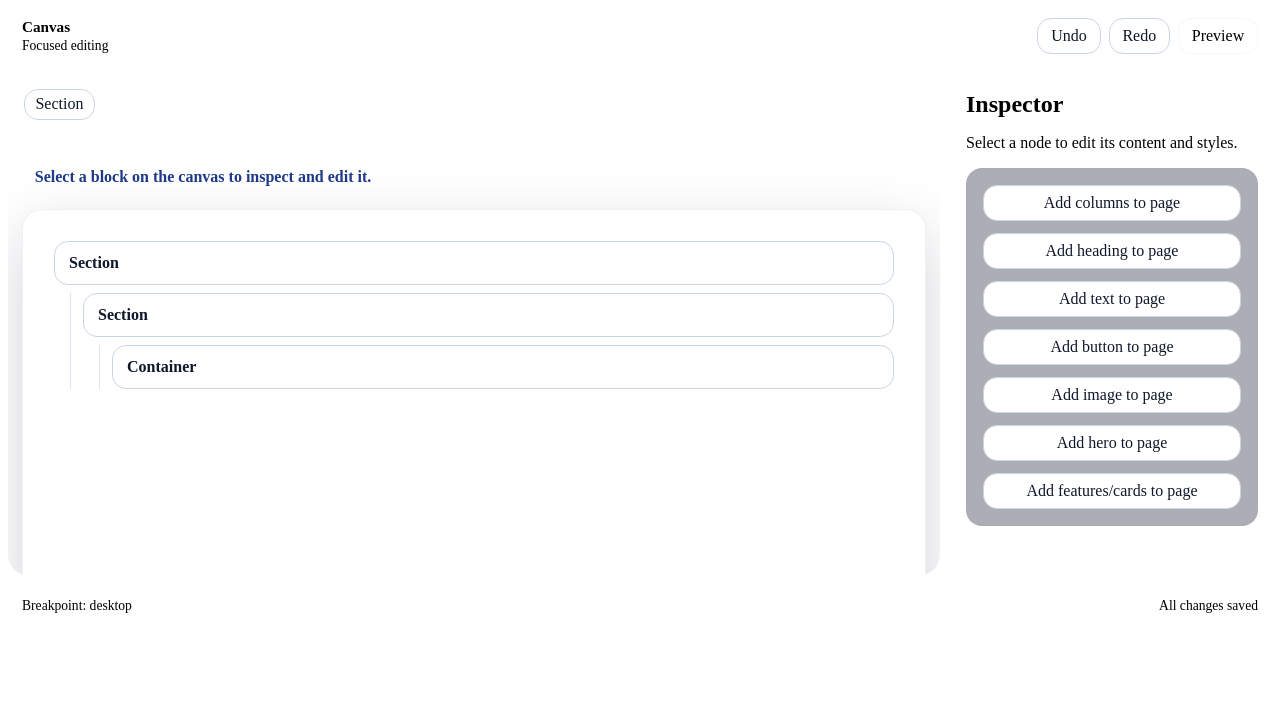
editor shell flow › adds a new block inside a selected container and lets the nested block be edited
Click the button "Container" at (162, 366), box [112, 345, 894, 389]
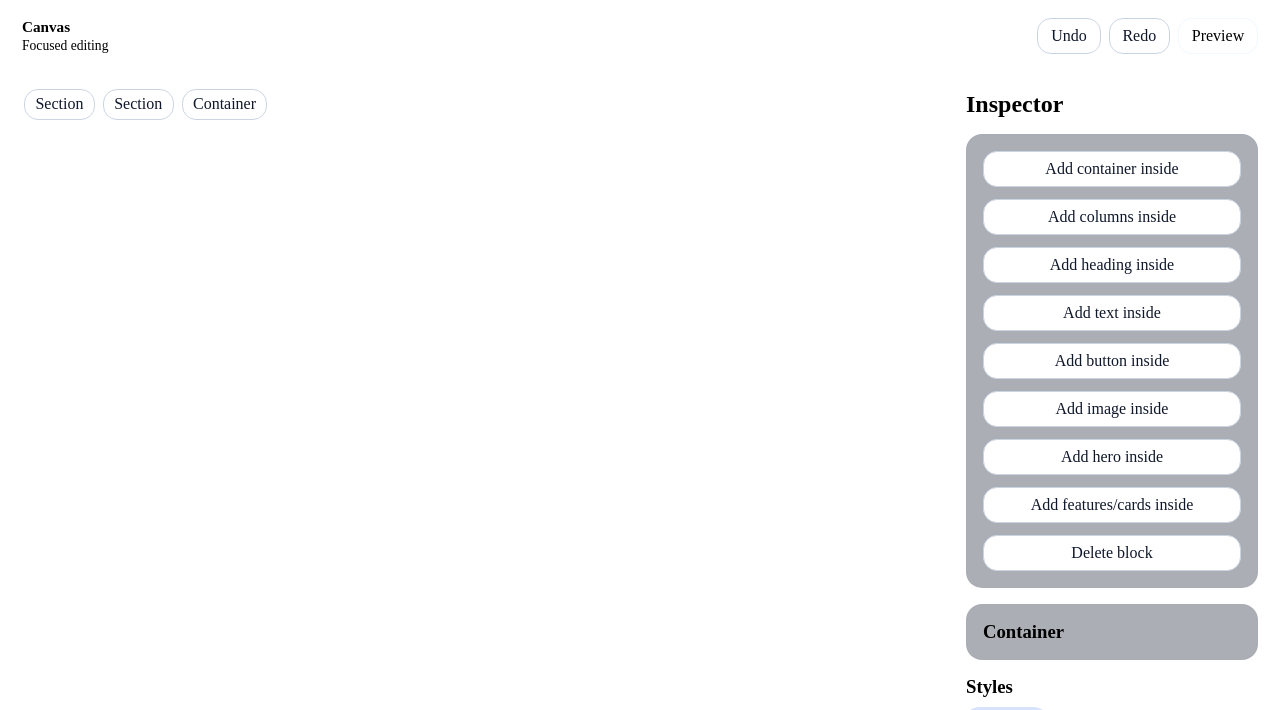
Click the button "Add text inside" at (1112, 313), box [983, 295, 1241, 331]
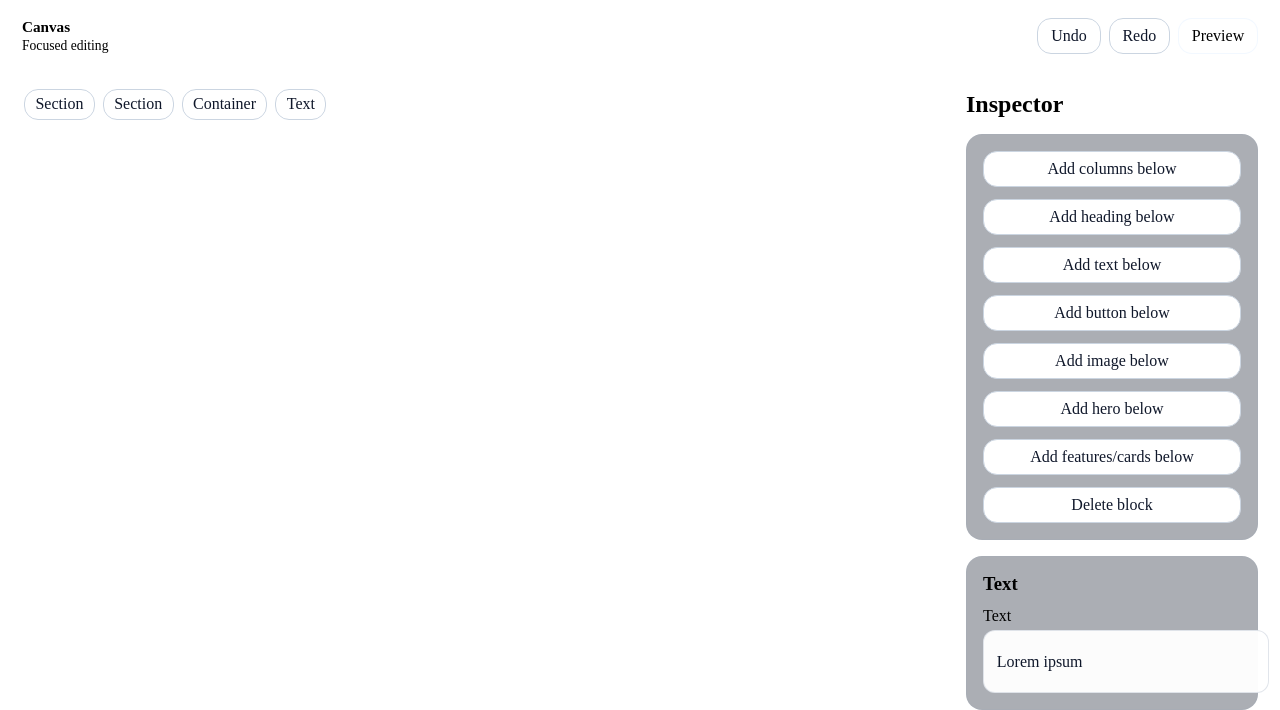
Now the field labelled "Text" holds "Lorem ipsum"
Replace the text in the field labelled "Text" with "Container paragraph" at (1126, 662), box [983, 630, 1269, 693]
(page scrolled)
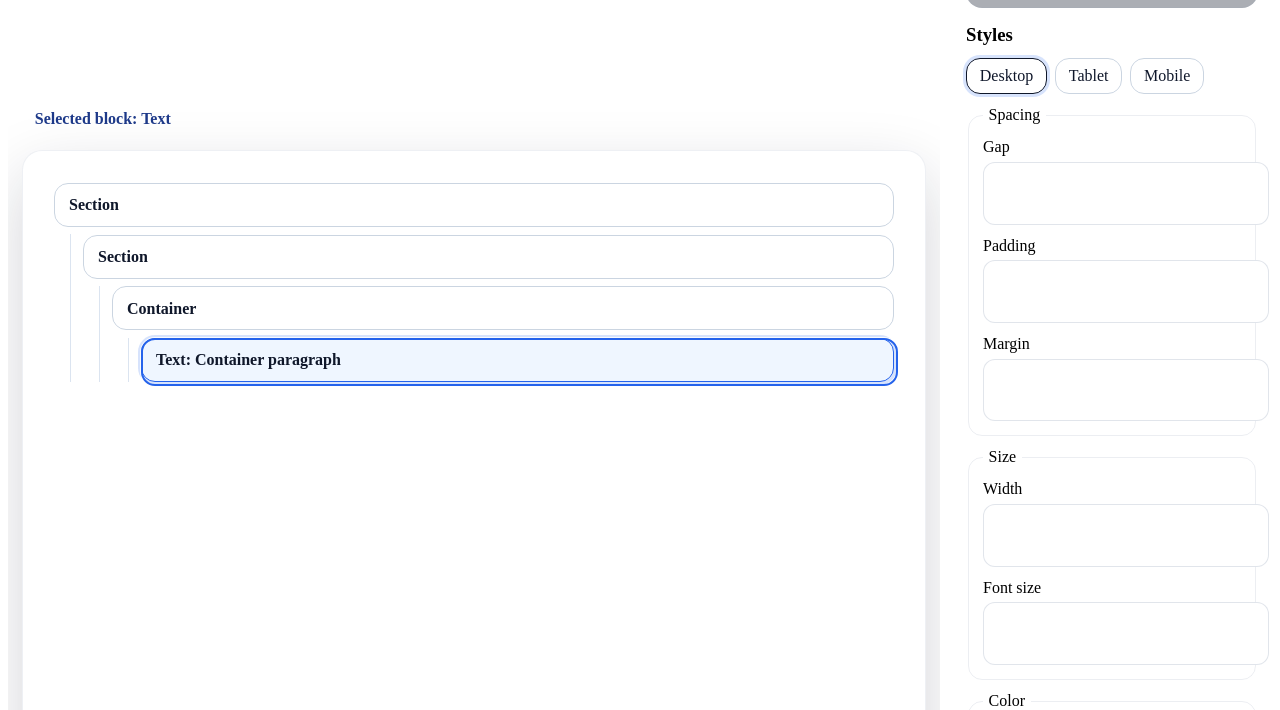
Now the button "Text: Container paragraph" is shown, box [141, 338, 894, 382]
